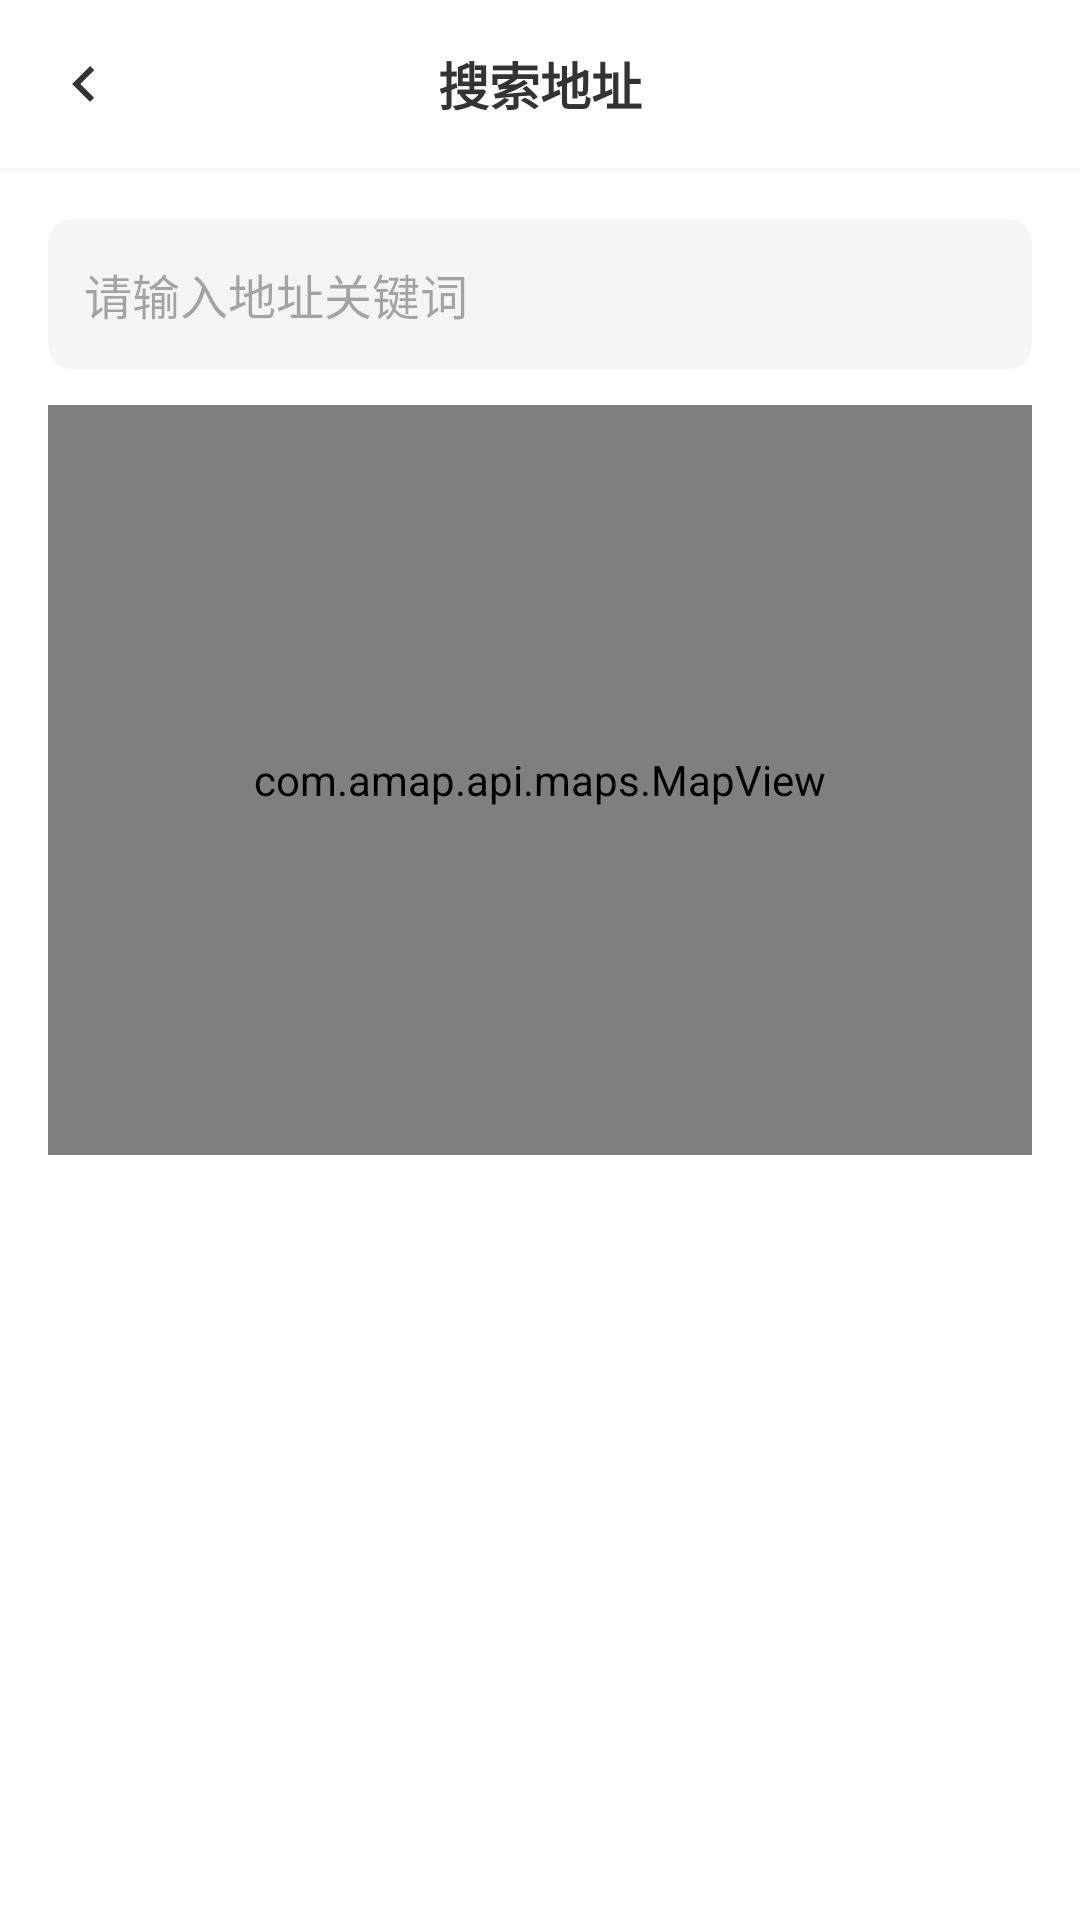

Screen size 1080px×1920px. Icon name, then its center in pixels as (x=x, y=y):
chevron left: (x=83, y=84)
